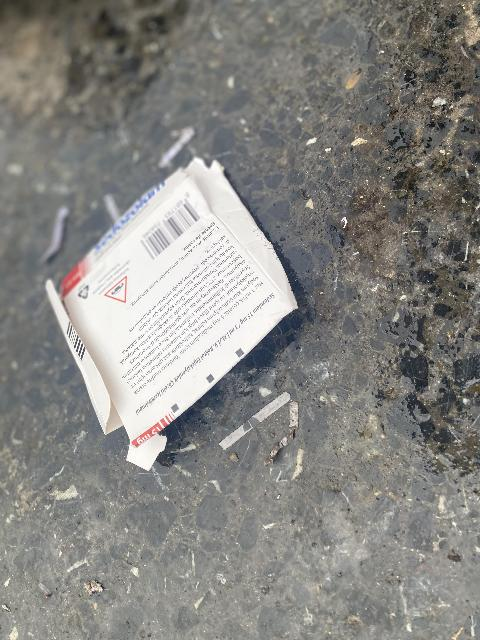Kagit: (45, 156, 298, 473)
